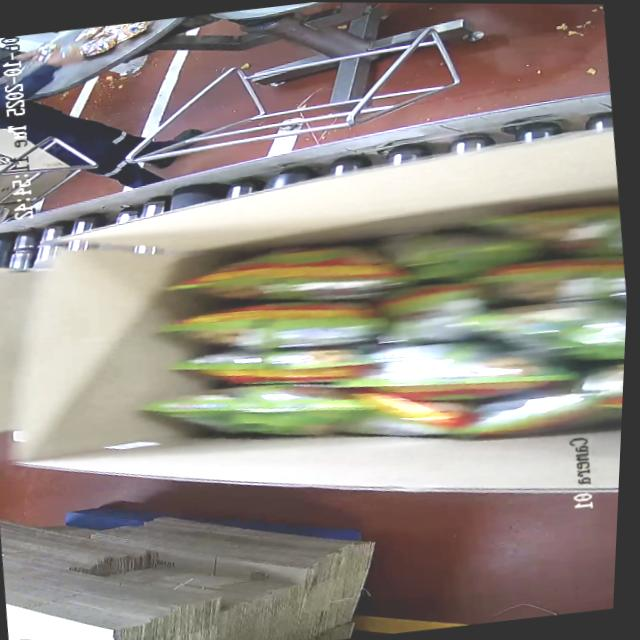YOGURT_HERB: (157, 192, 632, 477)
